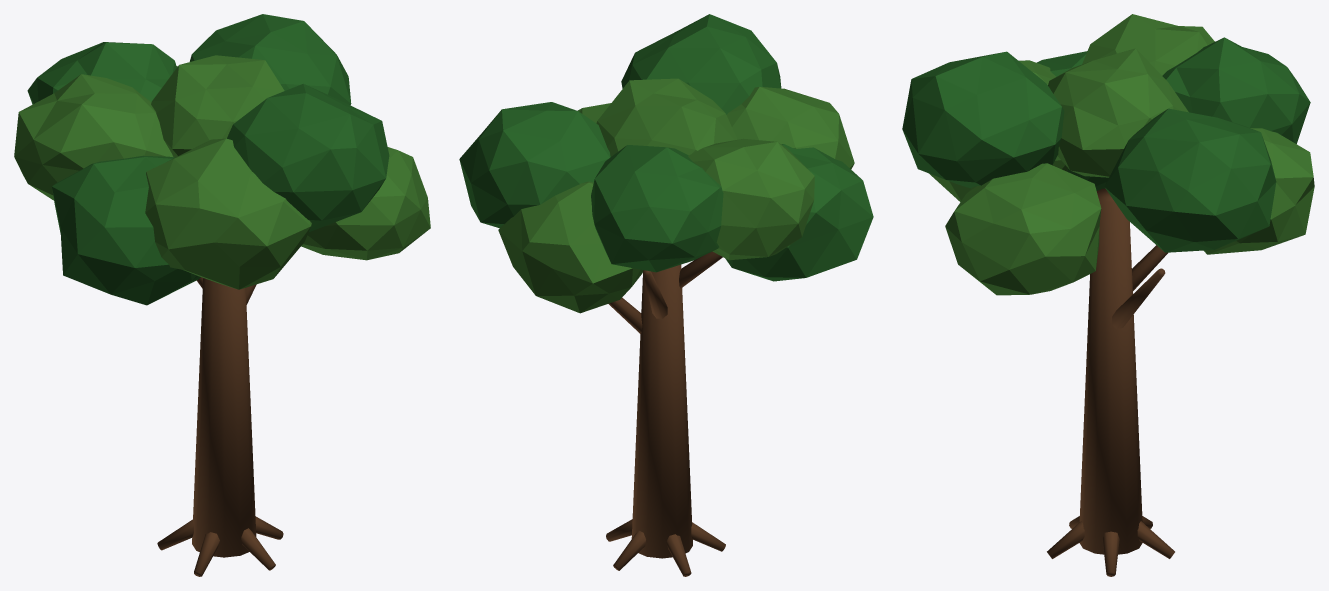
Rendered from tree_big.glb.
3 renders of one model, left to right at view 1: azimuth 30°, elevation 25°; view 2: azimuth 150°, elevation 25°; view 3: azimuth 270°, elevation 25°, orthographic. The views are drawn at different scales.
Parts seen in each view (by area): view 1: TreeBig; view 2: TreeBig; view 3: TreeBig.
Boxes of the visible parts, x1,y1,x2,y2 form: TreeBig: [14, 14, 430, 576]; TreeBig: [459, 14, 873, 576]; TreeBig: [902, 14, 1314, 576].
Size of the model in its own units: 6.77 by 9.42 by 7.01.
